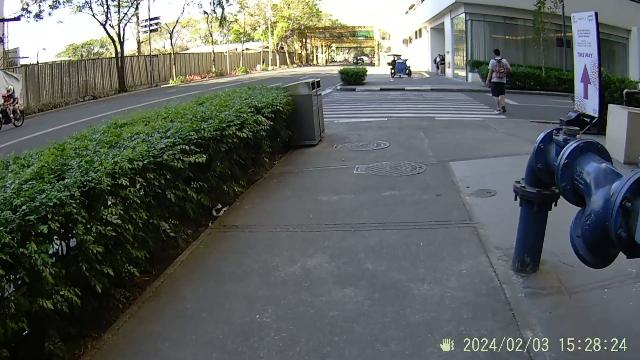garbage: (280, 74, 328, 150)
tree: (108, 13, 130, 97)
tricycle: (386, 51, 412, 79)
